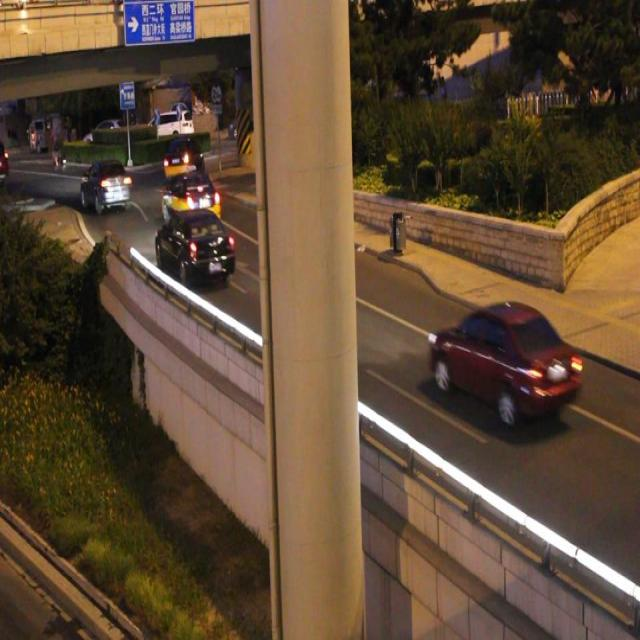car: (428, 298, 580, 426), (154, 207, 235, 288), (162, 166, 221, 231), (80, 158, 131, 215)
